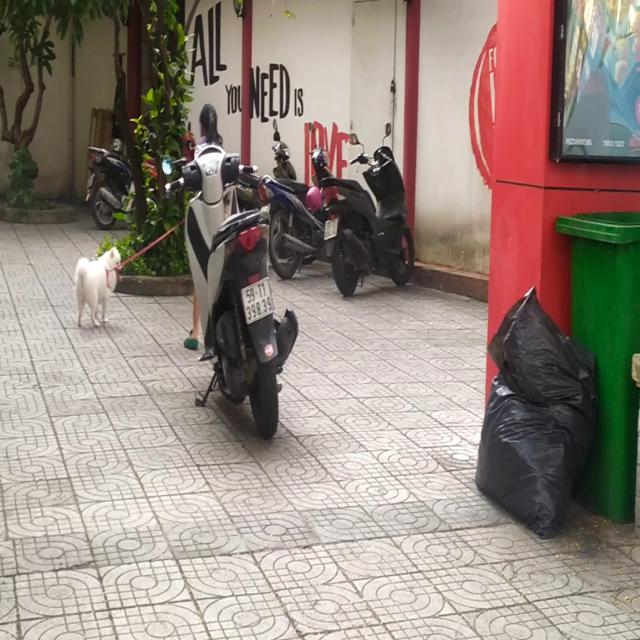bien_trang: (240, 276, 278, 321)
